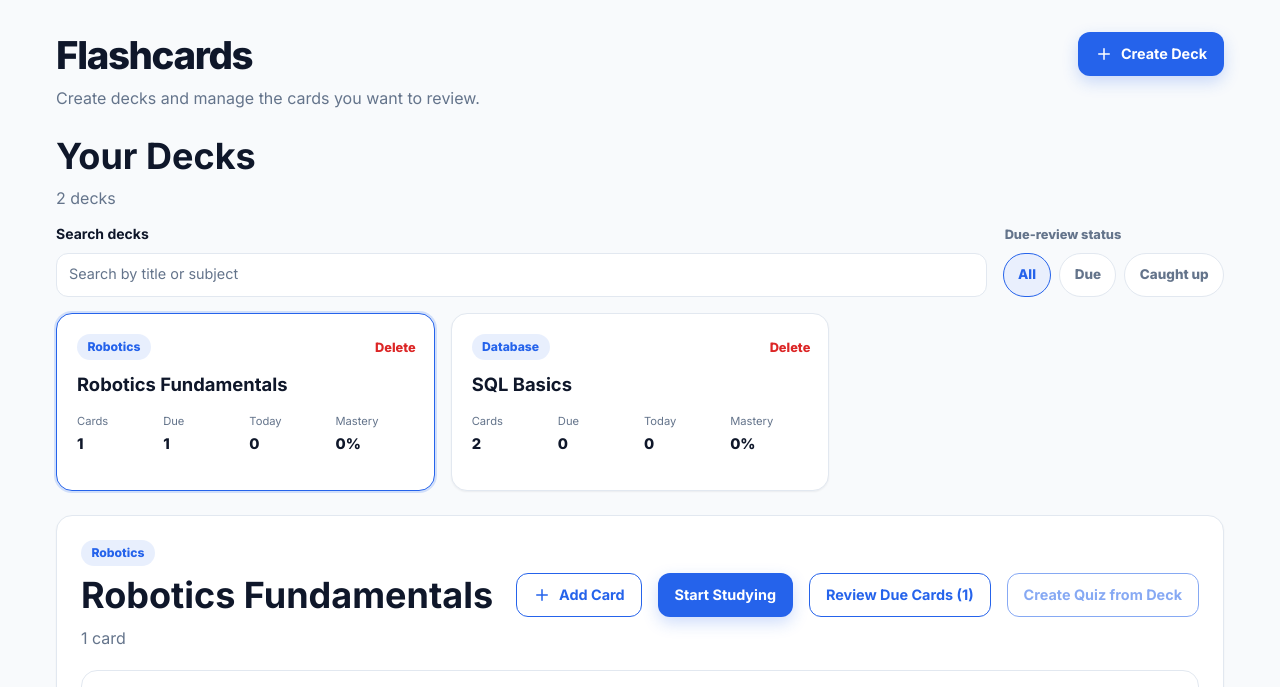
Test: searches decks and filters by due status
Step 1. Type "database" into the search field labelled "Search decks" → (521, 274), box left=57, top=254, right=986, bottom=296
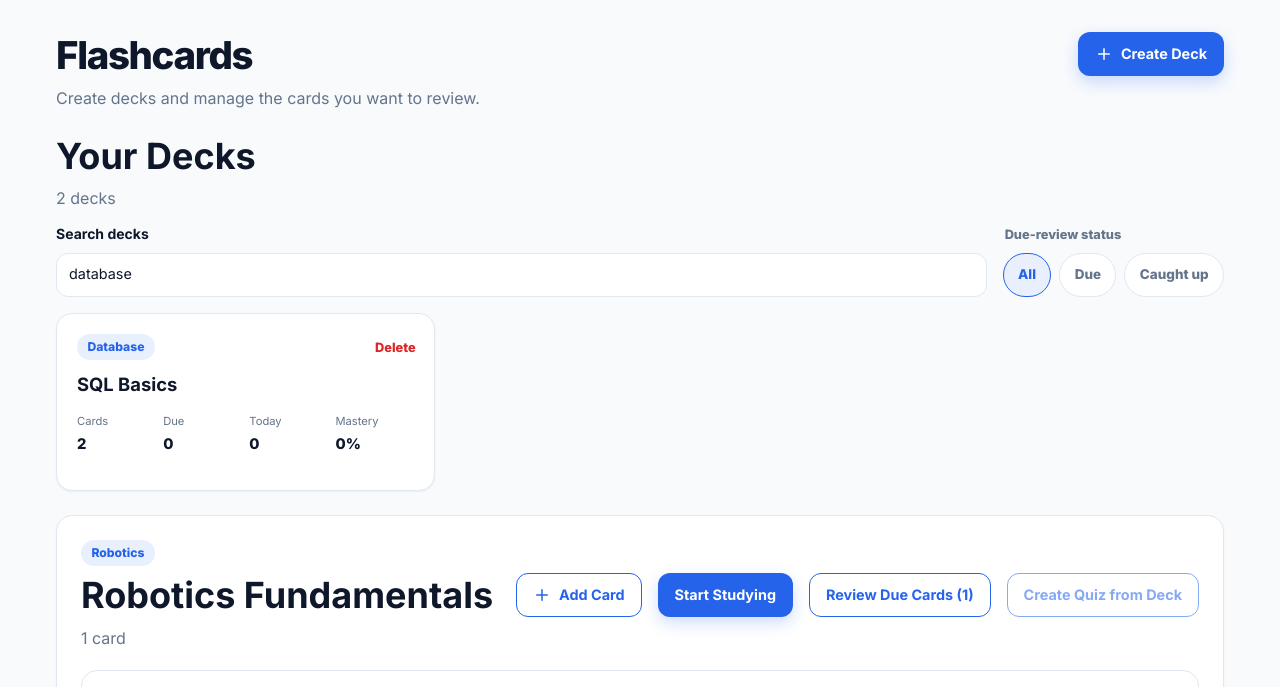
Check: the button "Database SQL Basics Cards 2 Due 0 Today 0 Mastery 0%" is shown, box left=57, top=314, right=434, bottom=490
Check: the button "Robotics Fundamentals Cards" is gone
Step 2. Clear the search field labelled "Search decks" → (521, 274), box left=57, top=254, right=986, bottom=296
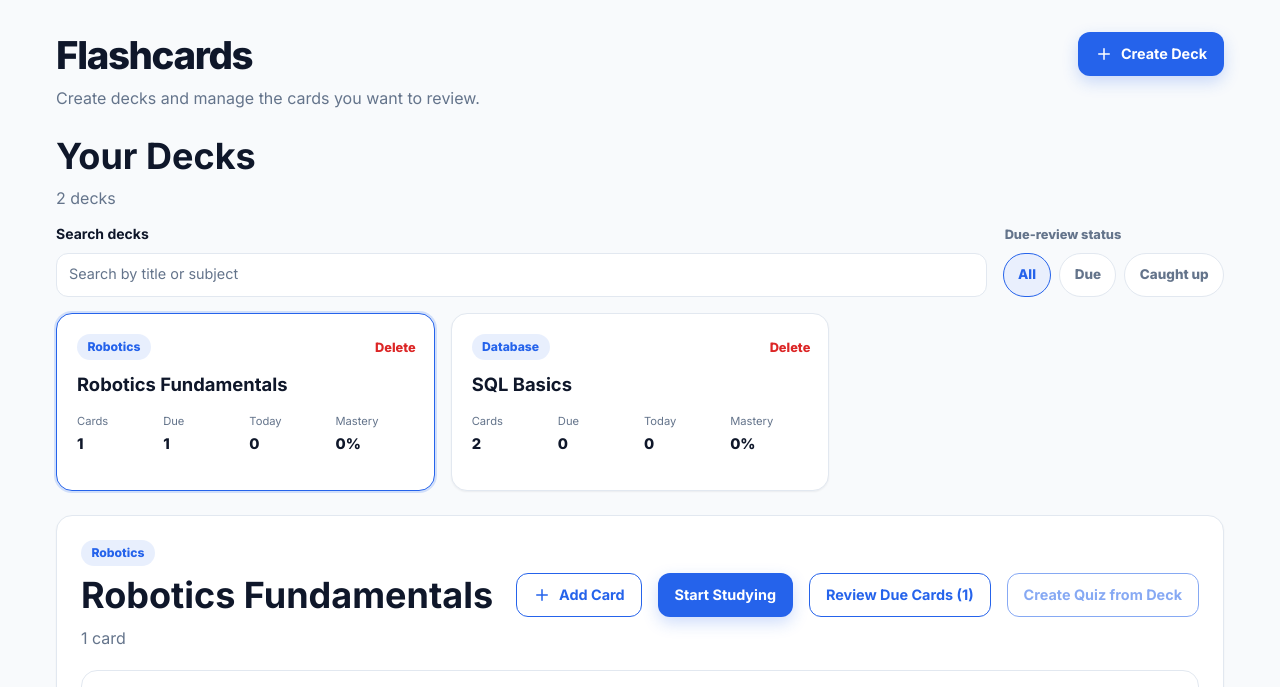
Step 3. Click the button "Due" → (1088, 274), box left=1059, top=252, right=1116, bottom=296
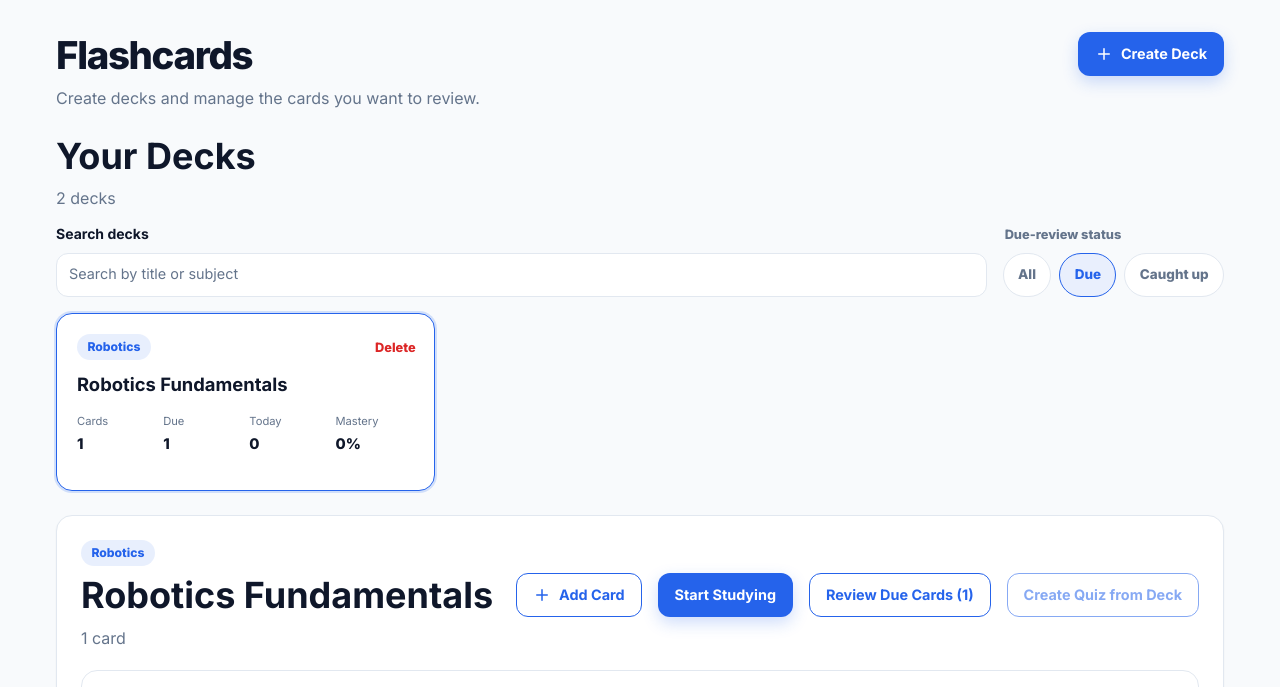
Check: the button "Robotics Fundamentals Cards" is shown, box left=57, top=314, right=434, bottom=490
Check: the button "SQL Basics Cards" is gone
